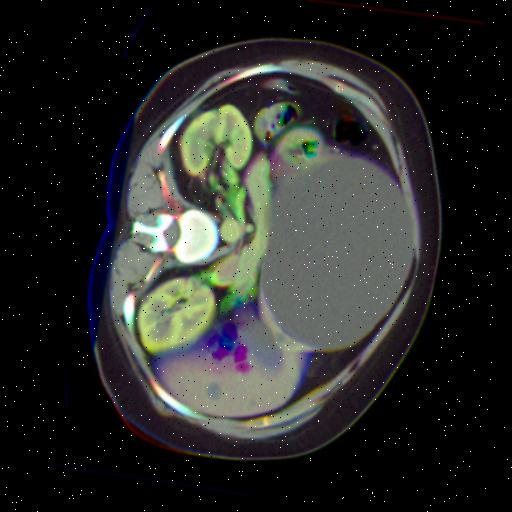Cyst: (257, 161, 411, 355)
